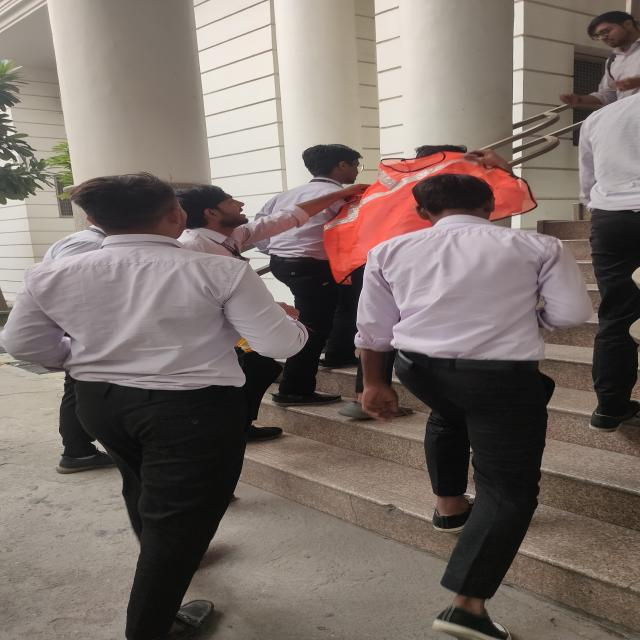unsafe: (1, 172, 308, 640), (359, 174, 595, 640), (176, 184, 367, 438), (257, 146, 373, 407), (560, 12, 640, 116)
